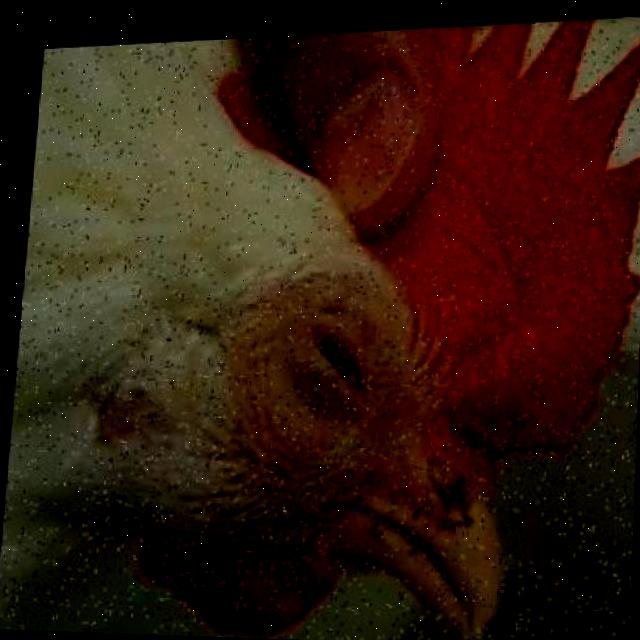Coryza: (274, 272, 396, 431)
